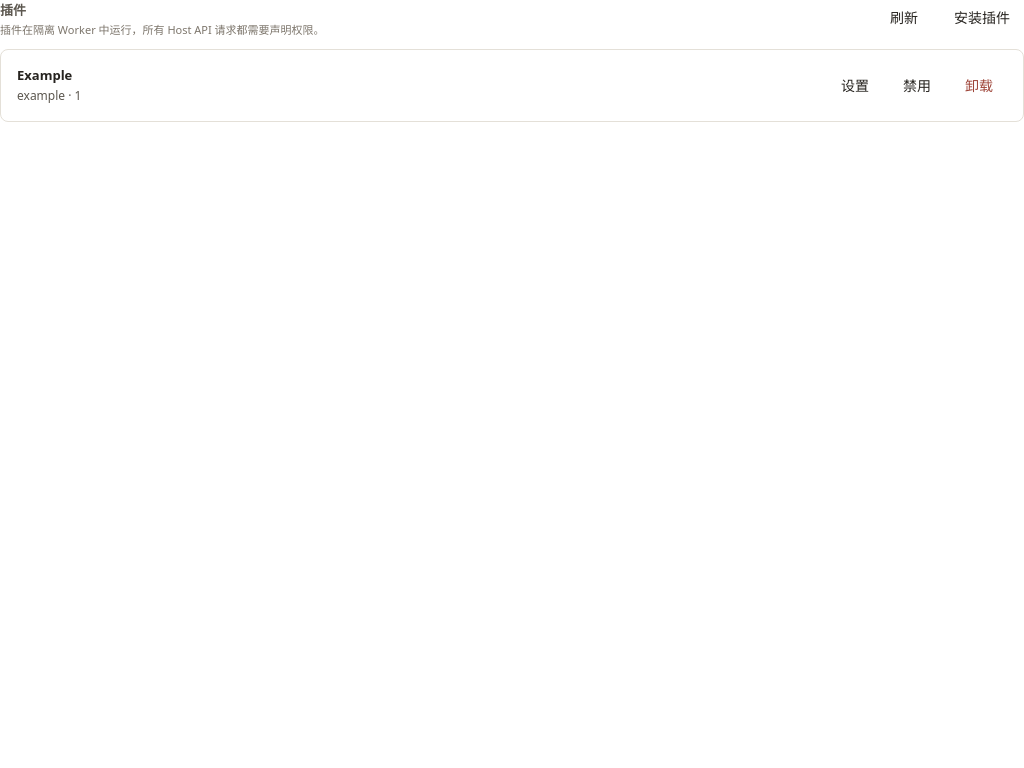
Test case: plugin manager interactions › preserves edited settings when continuing and closes only after explicit discard
Expected: the text "Example" is shown, [17, 66, 72, 84]
Click the button "设置": [855, 85] box [827, 68, 883, 102]
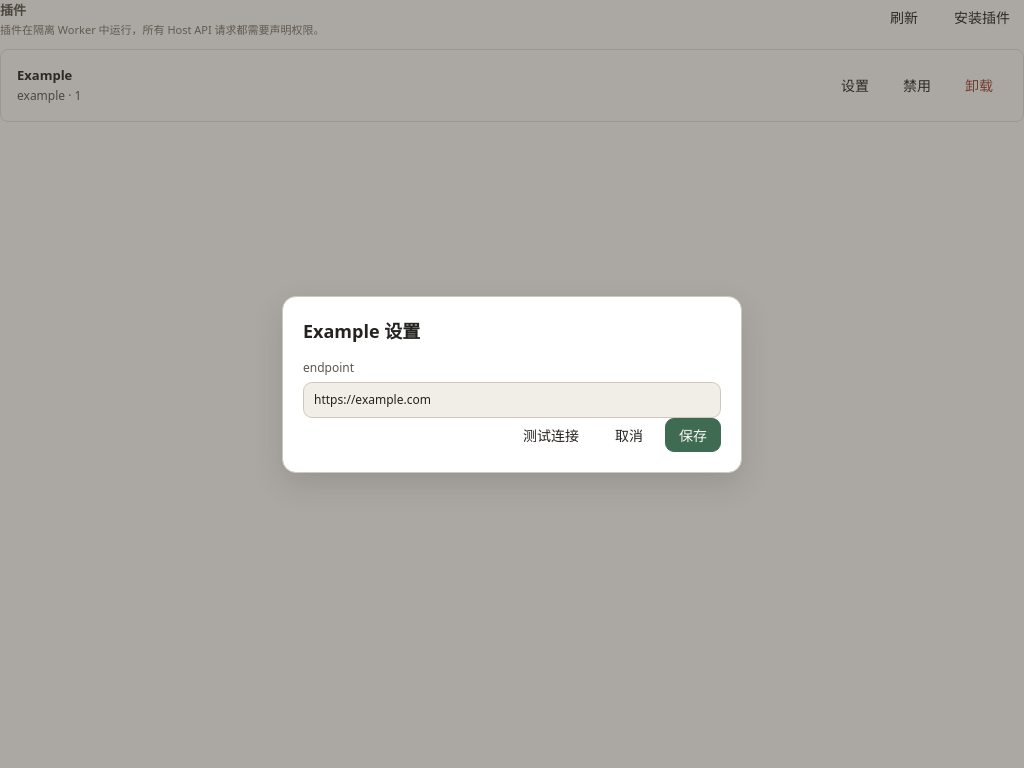
Replace the text in the field showing "https://example.com" with "https://changed.example.com": [512, 400] box [303, 382, 721, 418]
Click the button "取消": [629, 434] box [601, 418, 657, 452]
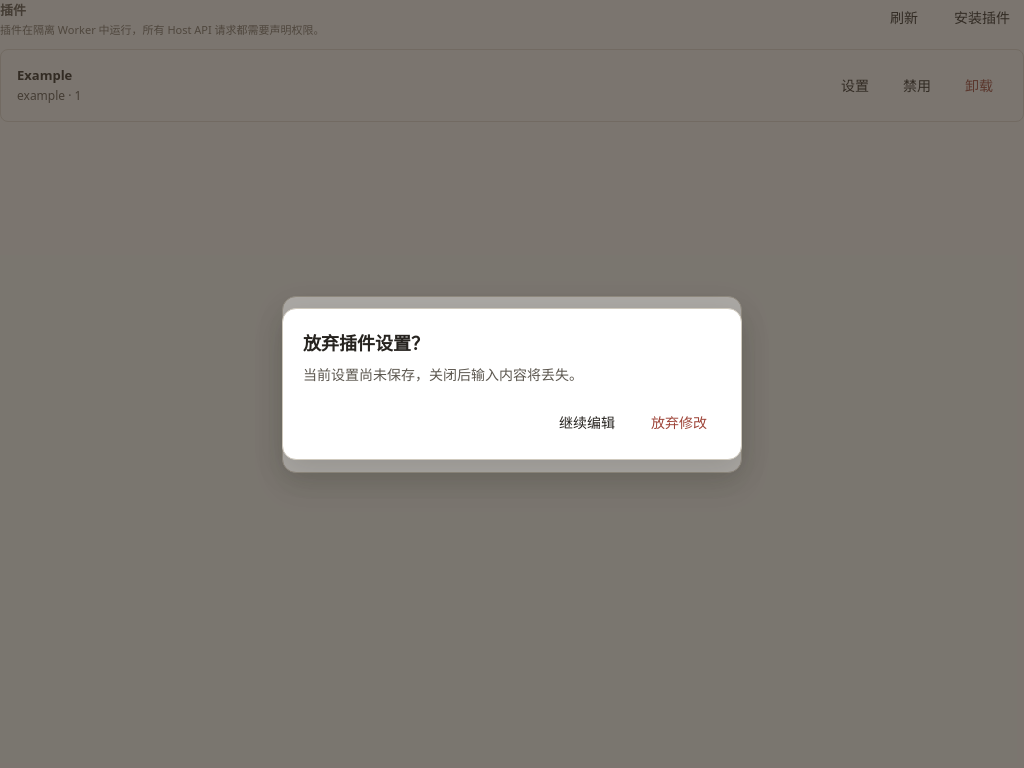
Result: the dialog "放弃插件设置？" is shown at [282, 308, 742, 460]
Click the button "继续编辑": [587, 422] box [545, 405, 629, 439]
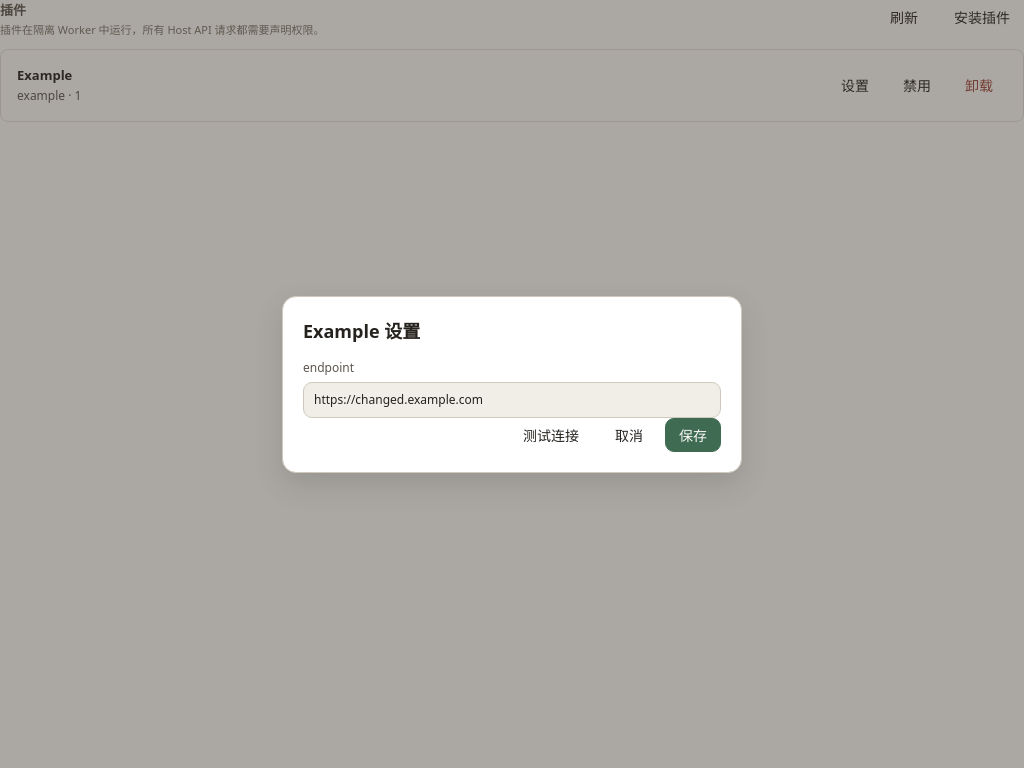
Result: the dialog "Example 设置" is shown at [282, 296, 742, 472]
Result: the heading "放弃插件设置？" is gone
Click the button "取消": [629, 434] box [601, 418, 657, 452]
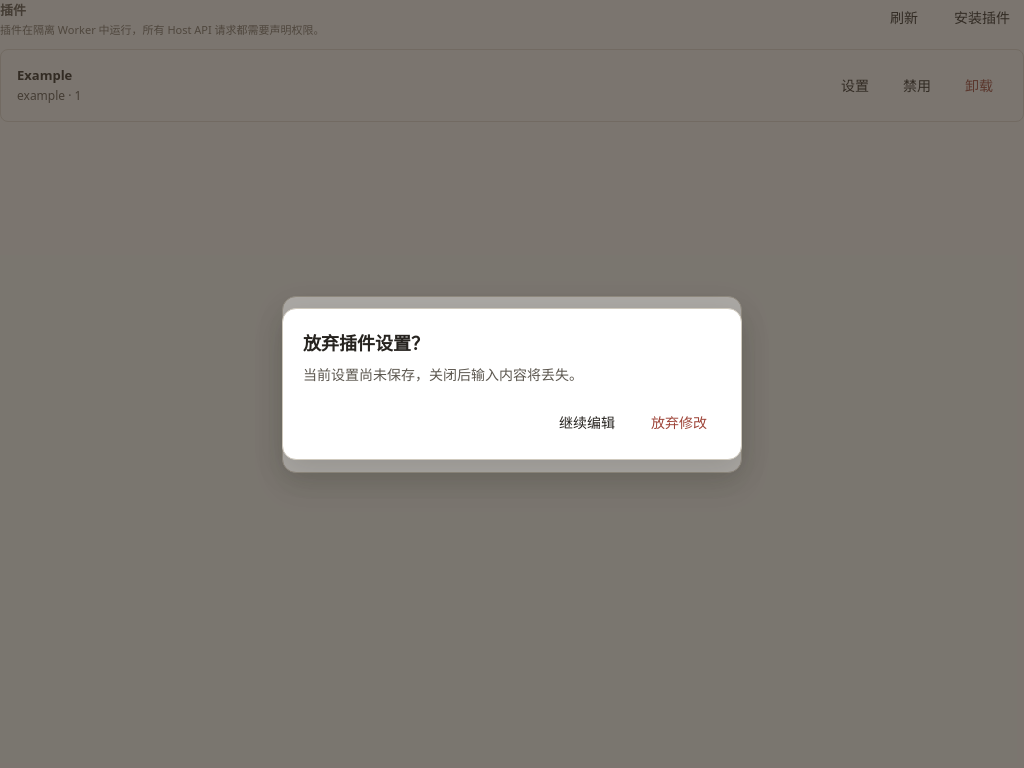
Click the button "放弃修改": [679, 422] box [637, 405, 721, 439]
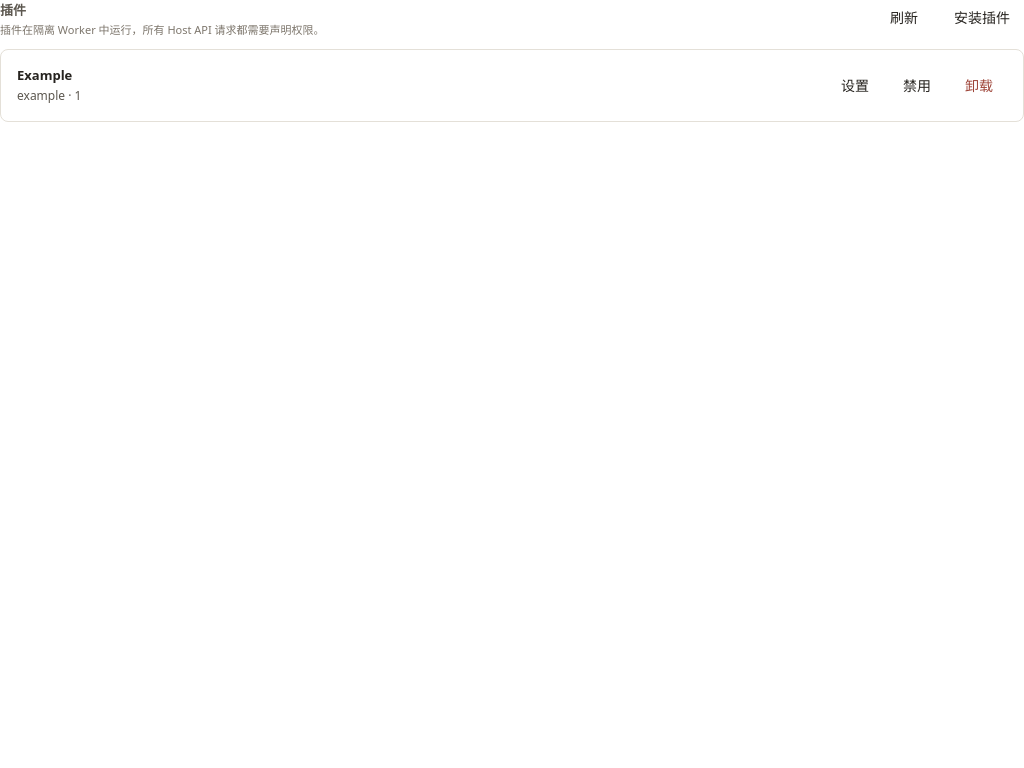
Result: the dialog is gone
Click the button "设置": [855, 85] box [827, 68, 883, 102]
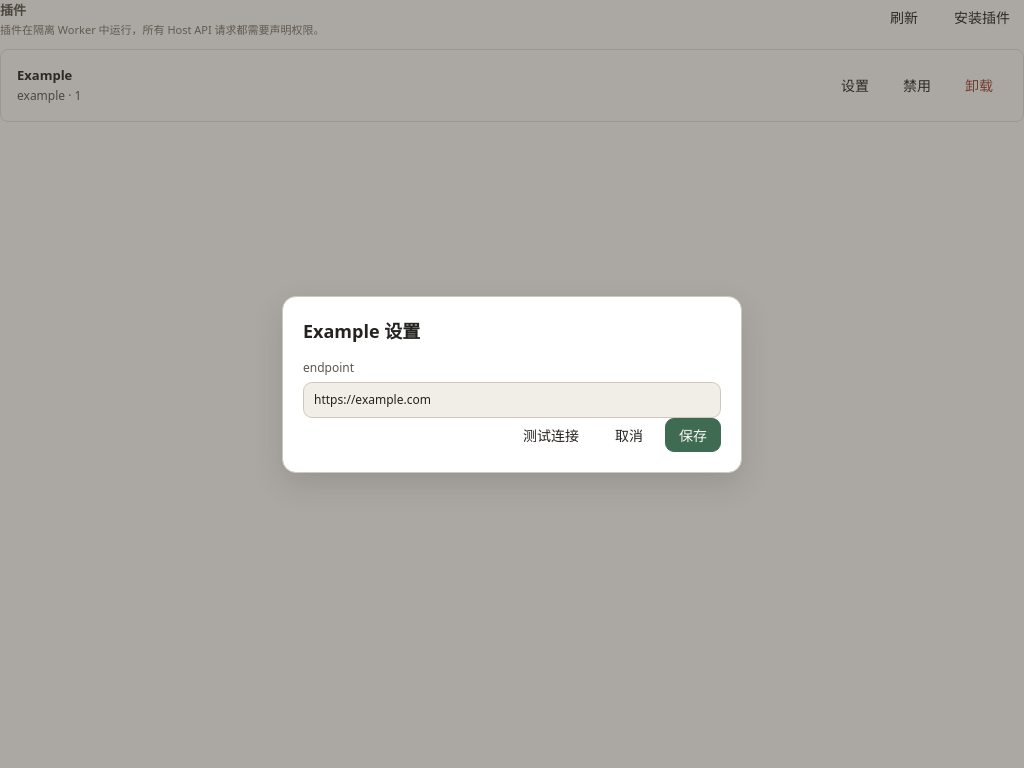
Expected: the field showing "https://changed.example.com" is not shown
Result: the field showing "https://example.com" is shown at [303, 382, 721, 418]
